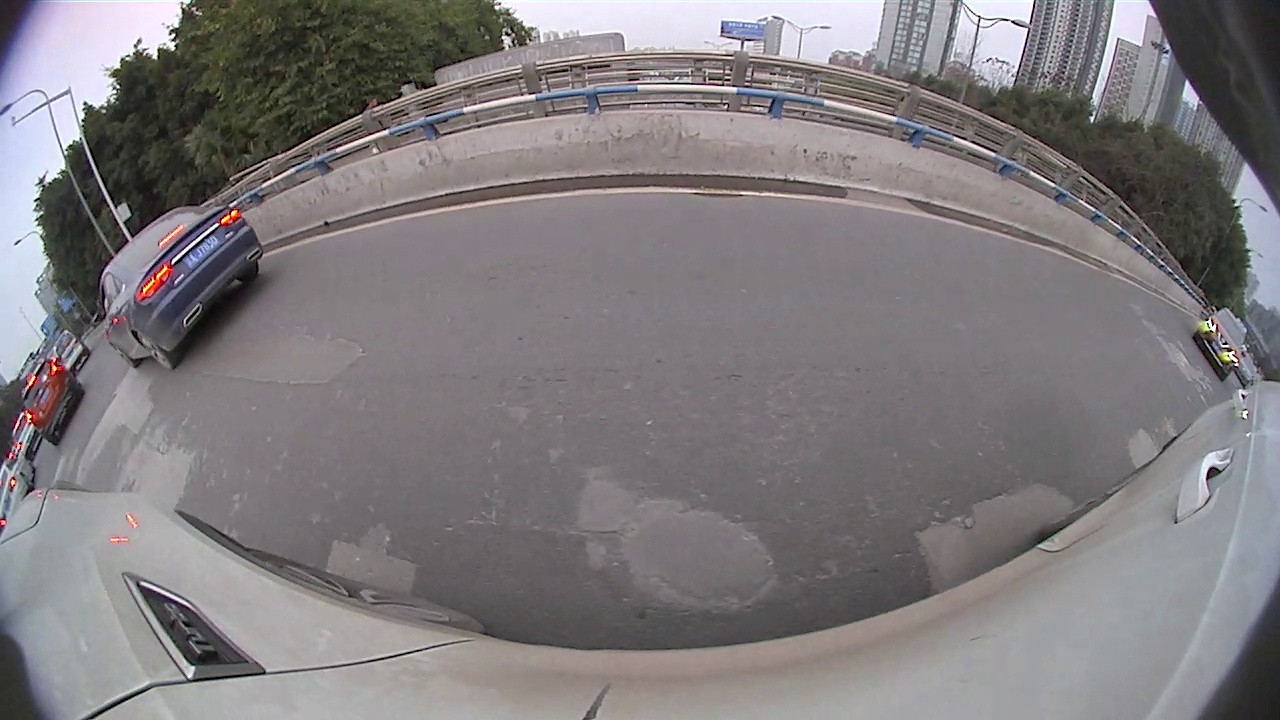bus: (810, 77, 1277, 237)
car: (2, 118, 472, 485), (958, 166, 1277, 432), (706, 153, 786, 200), (520, 159, 581, 198)
front: (978, 235, 1044, 312), (420, 193, 464, 267), (846, 172, 879, 217)
rear: (103, 300, 250, 469), (724, 177, 732, 196)
truck: (581, 31, 707, 200)
